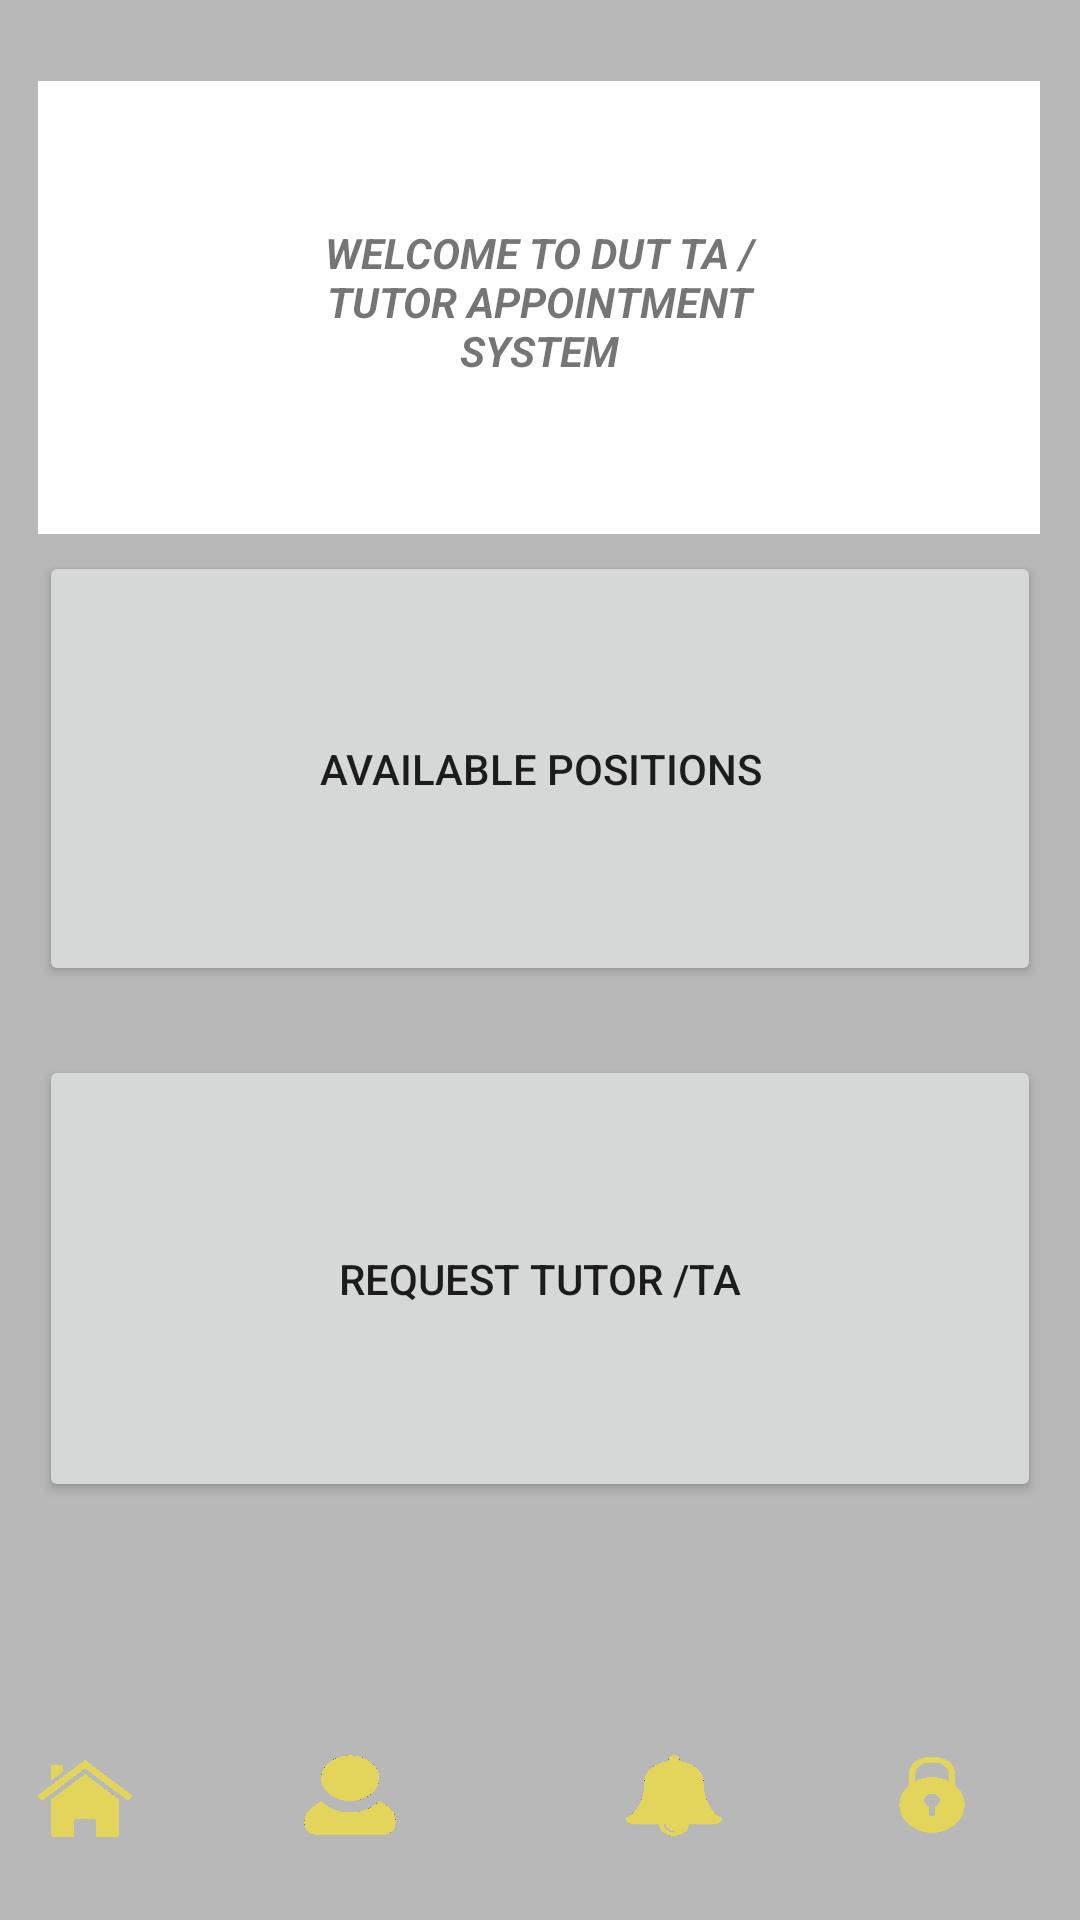

Screen size 1080px x 1920px. Icon name, then its center in pixels as (x=x, y=y):
bellicon: (x=674, y=1795)
homeicon: (x=85, y=1798)
lock: (x=932, y=1795)
usericon: (x=350, y=1795)
